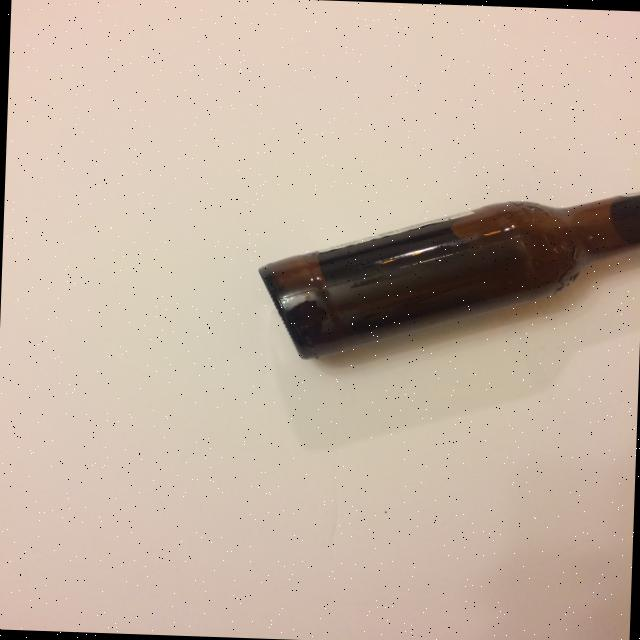glass: (253, 176, 640, 372)
